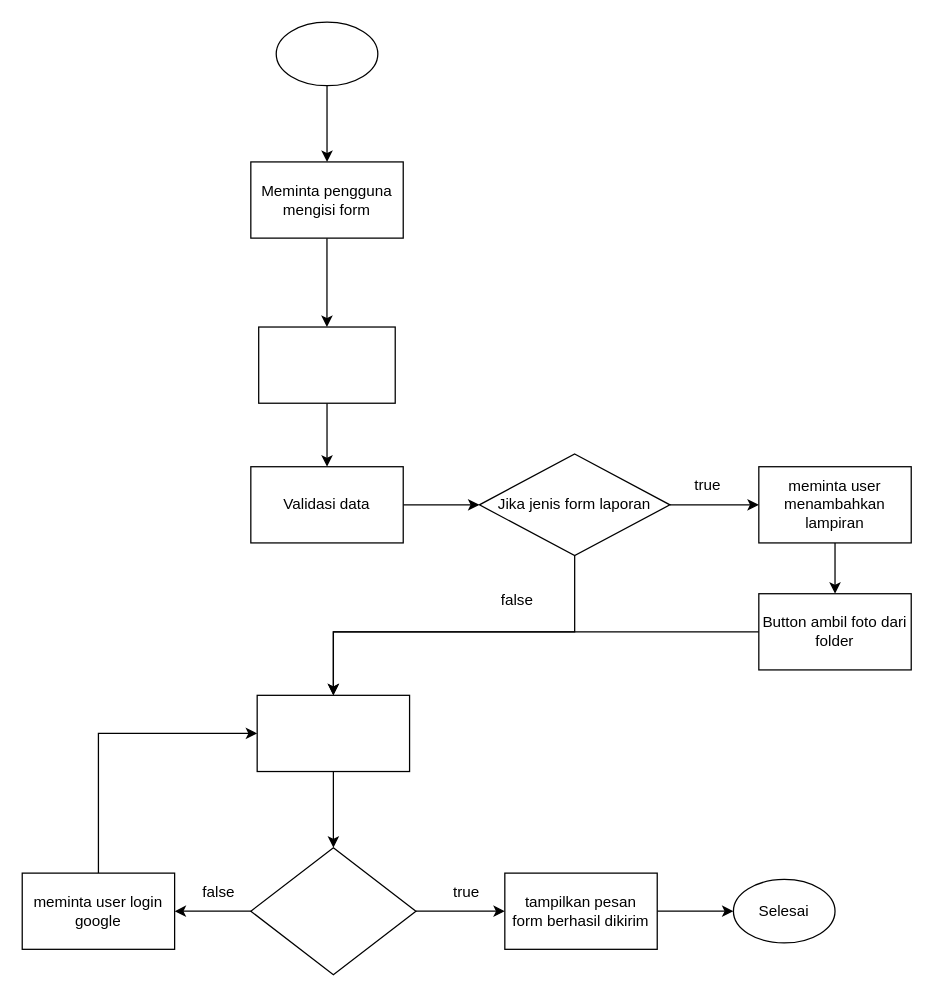
Some shapes in this 933 by 997 pixel diagram are drawn without their labels. Each missing label, with the centre of its shape:
Ambil data form: the point at 326,364
Button submit form: the point at 333,733
Jika user login google: the point at 333,910
Mulai: the point at 326,53
